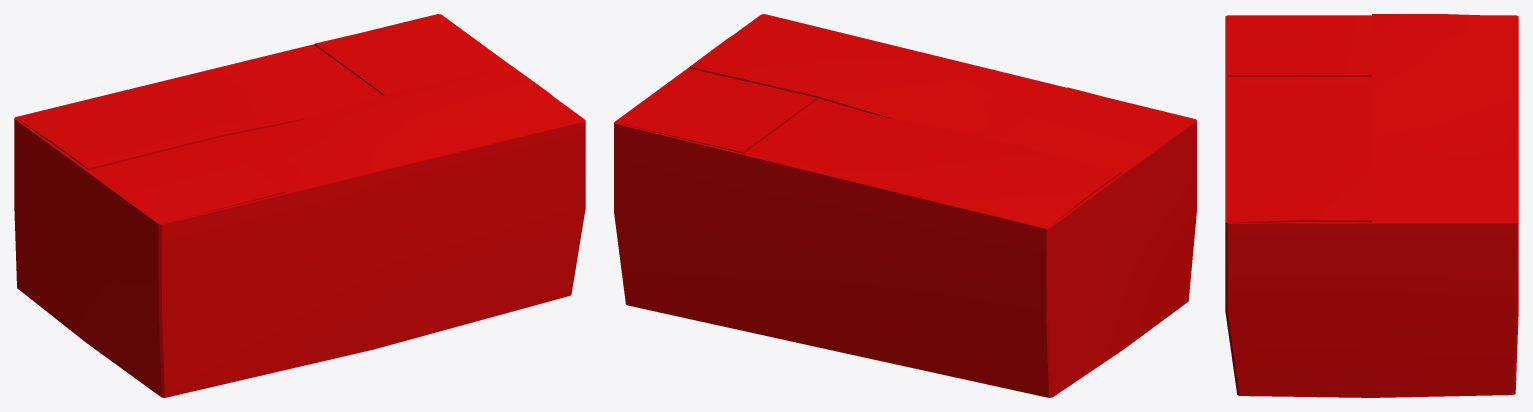
File: cardboardBox6.fbx
3 renders of one model, left to right at view 1: azimuth 30°, elevation 25°; view 2: azimuth 150°, elevation 25°; view 3: azimuth 270°, elevation 25°, orthographic. The views are drawn at different scales.
Parts seen in each view (by area): view 1: Cardboard_box_6; view 2: Cardboard_box_6; view 3: Cardboard_box_6.
Part boxes in pixels (<box>): Cardboard_box_6: <box>14,14,585,397</box>; Cardboard_box_6: <box>614,14,1196,397</box>; Cardboard_box_6: <box>1225,14,1518,397</box>.
Size of the model in its own units: 37.05 by 15 by 22.08.
